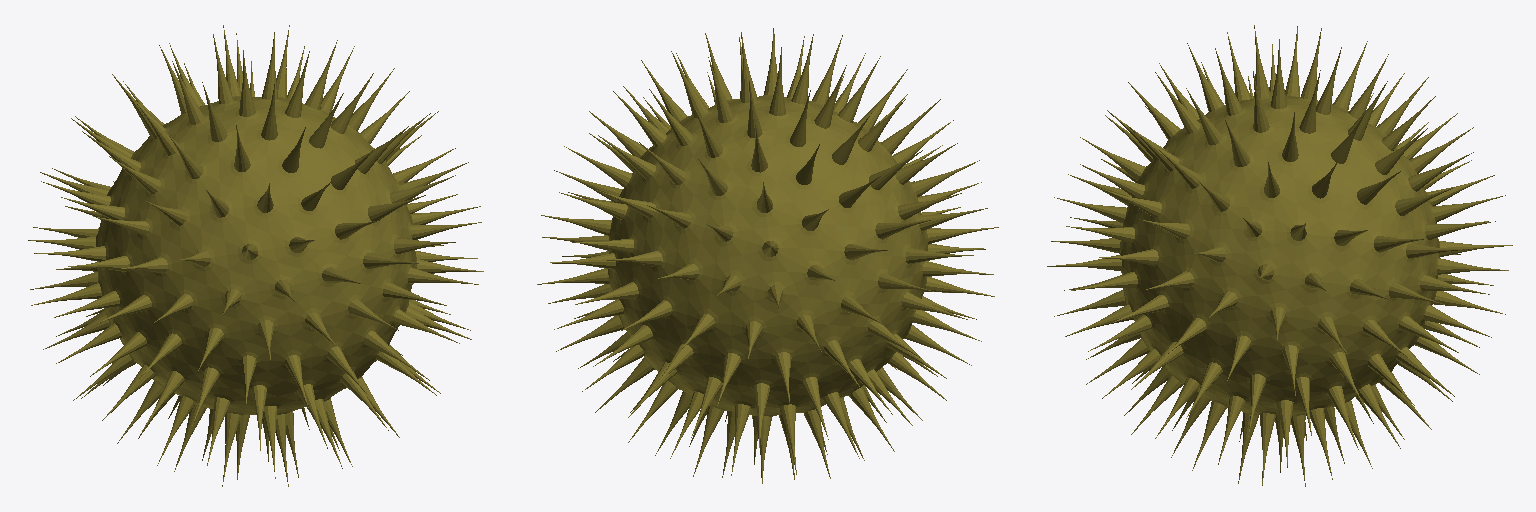
File: Virus_01.obj
3 renders of one model, left to right at view 1: azimuth 30°, elevation 25°; view 2: azimuth 150°, elevation 25°; view 3: azimuth 270°, elevation 25°, orthographic.
Parts seen in each view (by area): view 1: D_cell; view 2: D_cell; view 3: D_cell.
Boxes of the visible parts, <box> form: D_cell: <box>28,25,483,486</box>; D_cell: <box>537,28,998,483</box>; D_cell: <box>1047,25,1512,486</box>.
Size of the model in its own units: 226 by 226 by 224.